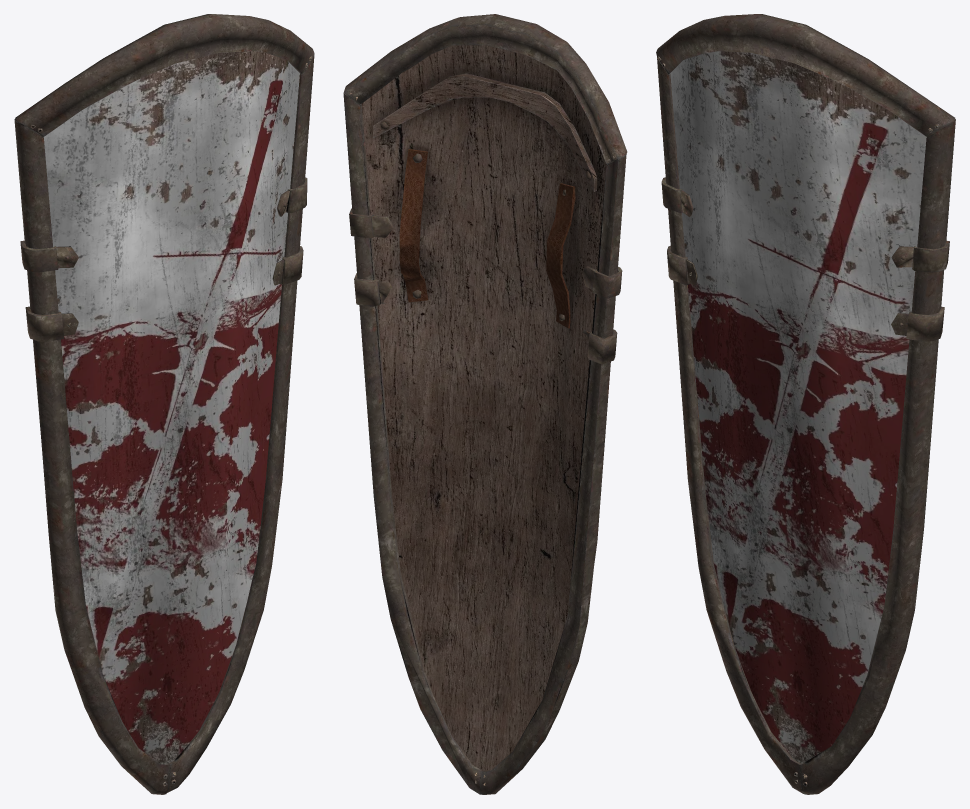
File: kite_shield.glb
The picture shows the model from 3 angles, left to right: view 1: azimuth 30°, elevation 25°; view 2: azimuth 150°, elevation 25°; view 3: azimuth 330°, elevation 25°; orthographic projection. The views are drawn at different scales.
Parts seen in each view (by area): view 1: kite_shield_body, kite_shield_metal_trim; view 2: kite_shield_body, kite_shield_metal_trim; view 3: kite_shield_body, kite_shield_metal_trim.
Boxes of the visible parts, <box> form: kite_shield_body: <box>43,51,299,764</box>; kite_shield_metal_trim: <box>14,14,314,794</box>; kite_shield_body: <box>361,45,606,770</box>; kite_shield_metal_trim: <box>343,14,627,794</box>; kite_shield_body: <box>670,51,926,763</box>; kite_shield_metal_trim: <box>656,14,955,794</box>.
Bounding box in the file's own units: 0.5433 × 1.39 × 0.1347.
2 materials, 2 textured.
